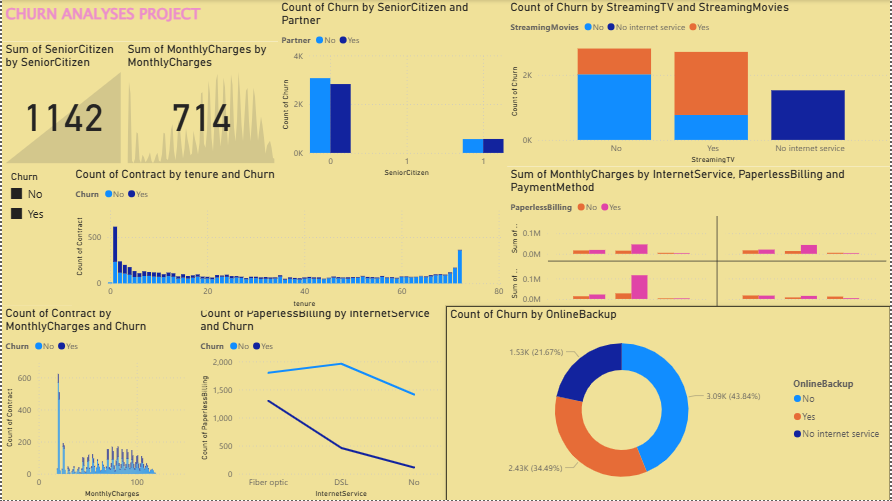

What the dashboard file says about the page in this screenshot:
{"tool":"powerbi","page":{"name":"Page 1","canvas":[1280,720],"ordinal":0},"visuals":[{"type":"lineStackedColumnComboChart","fields":{"Category":["WA_Fn-UseC_-Telco-Customer-Churn (5).MonthlyCharges"],"Y":["CountNonNull(WA_Fn-UseC_-Telco-Customer-Churn (5).Contract)"],"Series":["WA_Fn-UseC_-Telco-Customer-Churn (5).Churn"]},"box":[0,440.1,280.5,280.5],"z":0},{"type":"lineChart","fields":{"Category":["WA_Fn-UseC_-Telco-Customer-Churn (5).InternetService"],"Y":["CountNonNull(WA_Fn-UseC_-Telco-Customer-Churn (5).PaperlessBilling)"],"Series":["WA_Fn-UseC_-Telco-Customer-Churn (5).Churn"]},"box":[280.5,440.1,359.5,280.5],"z":1},{"type":"columnChart","fields":{"Category":["WA_Fn-UseC_-Telco-Customer-Churn (5).tenure"],"Y":["CountNonNull(WA_Fn-UseC_-Telco-Customer-Churn (5).Contract)"],"Series":["WA_Fn-UseC_-Telco-Customer-Churn (5).Churn"]},"box":[100.8,240.2,626.6,206.6],"z":2},{"type":"clusteredColumnChart","fields":{"Category":["WA_Fn-UseC_-Telco-Customer-Churn (5).InternetService"],"Y":["Sum(WA_Fn-UseC_-Telco-Customer-Churn (5).MonthlyCharges)"],"Series":["WA_Fn-UseC_-Telco-Customer-Churn (5).PaperlessBilling"],"Rows":["WA_Fn-UseC_-Telco-Customer-Churn (5).PaymentMethod"]},"box":[727.3,240.2,552.7,206.6],"z":3},{"type":"slicer","fields":{"Values":["WA_Fn-UseC_-Telco-Customer-Churn (5).Churn"]},"box":[0,240.2,100.8,199.9],"z":4},{"type":"actionButton","box":[0,0,100,40],"z":5},{"type":"columnChart","fields":{"Category":["WA_Fn-UseC_-Telco-Customer-Churn (5).StreamingTV"],"Y":["CountNonNull(WA_Fn-UseC_-Telco-Customer-Churn (5).Churn)"],"Series":["WA_Fn-UseC_-Telco-Customer-Churn (5).StreamingMovies"]},"box":[727.2,0,553,240.5],"z":6},{"type":"donutChart","fields":{"Category":["WA_Fn-UseC_-Telco-Customer-Churn (5).OnlineBackup","WA_Fn-UseC_-Telco-Customer-Churn (5).OnlineSecurity"],"Y":["CountNonNull(WA_Fn-UseC_-Telco-Customer-Churn (5).Churn)"]},"box":[640,440.1,640,280.5],"z":7},{"type":"lineClusteredColumnComboChart","fields":{"Category":["WA_Fn-UseC_-Telco-Customer-Churn (5).SeniorCitizen"],"Y":["CountNonNull(WA_Fn-UseC_-Telco-Customer-Churn (5).Churn)"],"Series":["WA_Fn-UseC_-Telco-Customer-Churn (5).Partner"]},"box":[397.4,0,329.8,259.2],"z":8},{"type":"textbox","box":[0,0,398.1,60.5],"z":9},{"type":"kpi","fields":{"Indicator":["Sum(WA_Fn-UseC_-Telco-Customer-Churn (5).SeniorCitizen)"],"TrendLine":["WA_Fn-UseC_-Telco-Customer-Churn (5).SeniorCitizen"]},"box":[0,60.5,176.4,179.7],"z":10},{"type":"kpi","fields":{"Indicator":["Sum(WA_Fn-UseC_-Telco-Customer-Churn (5).MonthlyCharges)"],"TrendLine":["WA_Fn-UseC_-Telco-Customer-Churn (5).MonthlyCharges"]},"box":[176.4,60.5,221.7,179.7],"z":11}]}

Visuals, with their boxes in screenshot pixels (x1, y1, x2, y2), scaled from the page's 1280x720 canvas onto the 892x501 screenshot:
lineStackedColumnComboChart - WA_Fn-UseC_-Telco-Customer-Churn (5).MonthlyCharges x CountNonNull(WA_Fn-UseC_-Telco-Customer-Churn (5).Contract): left=0, top=306, right=195, bottom=500
lineChart - WA_Fn-UseC_-Telco-Customer-Churn (5).InternetService x CountNonNull(WA_Fn-UseC_-Telco-Customer-Churn (5).PaperlessBilling): left=195, top=306, right=446, bottom=500
columnChart - WA_Fn-UseC_-Telco-Customer-Churn (5).tenure x CountNonNull(WA_Fn-UseC_-Telco-Customer-Churn (5).Contract): left=70, top=167, right=507, bottom=311
clusteredColumnChart - WA_Fn-UseC_-Telco-Customer-Churn (5).InternetService x Sum(WA_Fn-UseC_-Telco-Customer-Churn (5).MonthlyCharges): left=507, top=167, right=891, bottom=311
slicer - WA_Fn-UseC_-Telco-Customer-Churn (5).Churn: left=0, top=167, right=70, bottom=306
actionButton: left=0, top=0, right=70, bottom=28
columnChart - WA_Fn-UseC_-Telco-Customer-Churn (5).StreamingTV x CountNonNull(WA_Fn-UseC_-Telco-Customer-Churn (5).Churn): left=507, top=0, right=891, bottom=167
donutChart - WA_Fn-UseC_-Telco-Customer-Churn (5).OnlineBackup x WA_Fn-UseC_-Telco-Customer-Churn (5).OnlineSecurity: left=446, top=306, right=891, bottom=500
lineClusteredColumnComboChart - WA_Fn-UseC_-Telco-Customer-Churn (5).SeniorCitizen x CountNonNull(WA_Fn-UseC_-Telco-Customer-Churn (5).Churn): left=277, top=0, right=507, bottom=180
textbox: left=0, top=0, right=277, bottom=42
kpi - Sum(WA_Fn-UseC_-Telco-Customer-Churn (5).SeniorCitizen) x WA_Fn-UseC_-Telco-Customer-Churn (5).SeniorCitizen: left=0, top=42, right=123, bottom=167
kpi - Sum(WA_Fn-UseC_-Telco-Customer-Churn (5).MonthlyCharges) x WA_Fn-UseC_-Telco-Customer-Churn (5).MonthlyCharges: left=123, top=42, right=277, bottom=167
